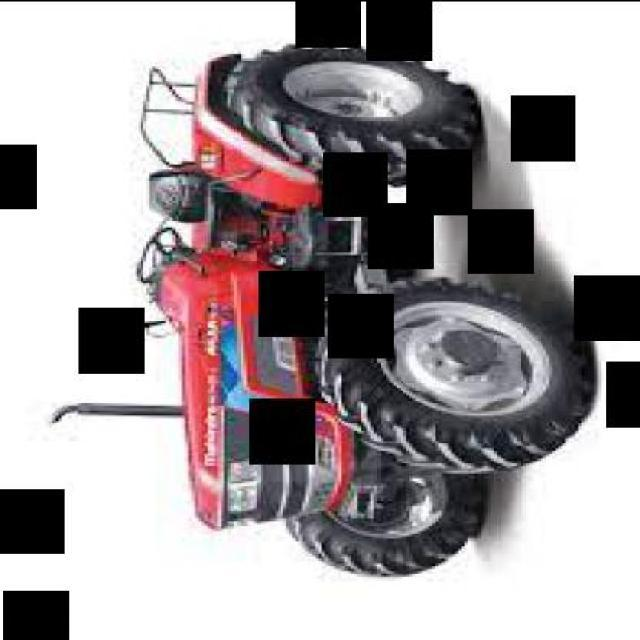Tratores - v5 YOLO V8L 2024-11-13: (28, 31, 634, 610)
